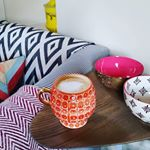cups: (36, 71, 99, 133)
